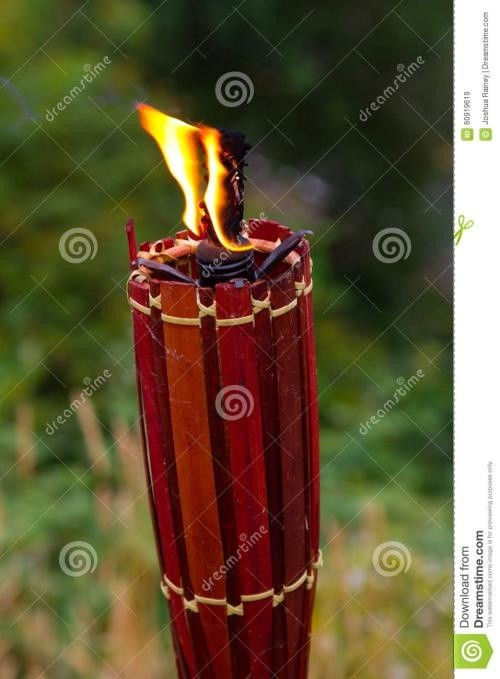fire: (137, 102, 243, 250)
